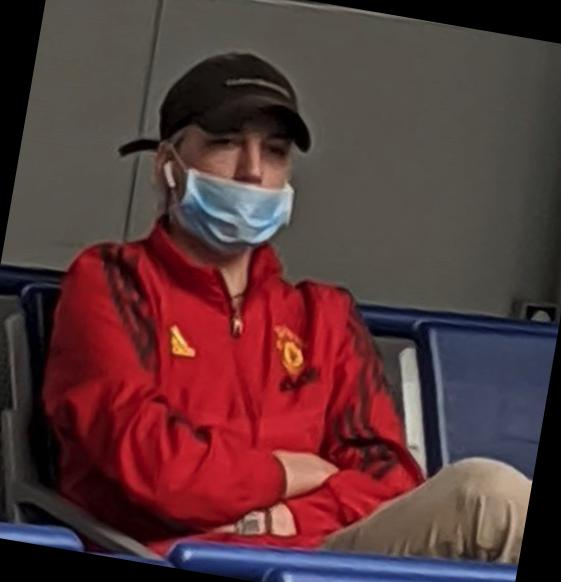mask_weared_incorrect: (171, 128, 307, 245)
